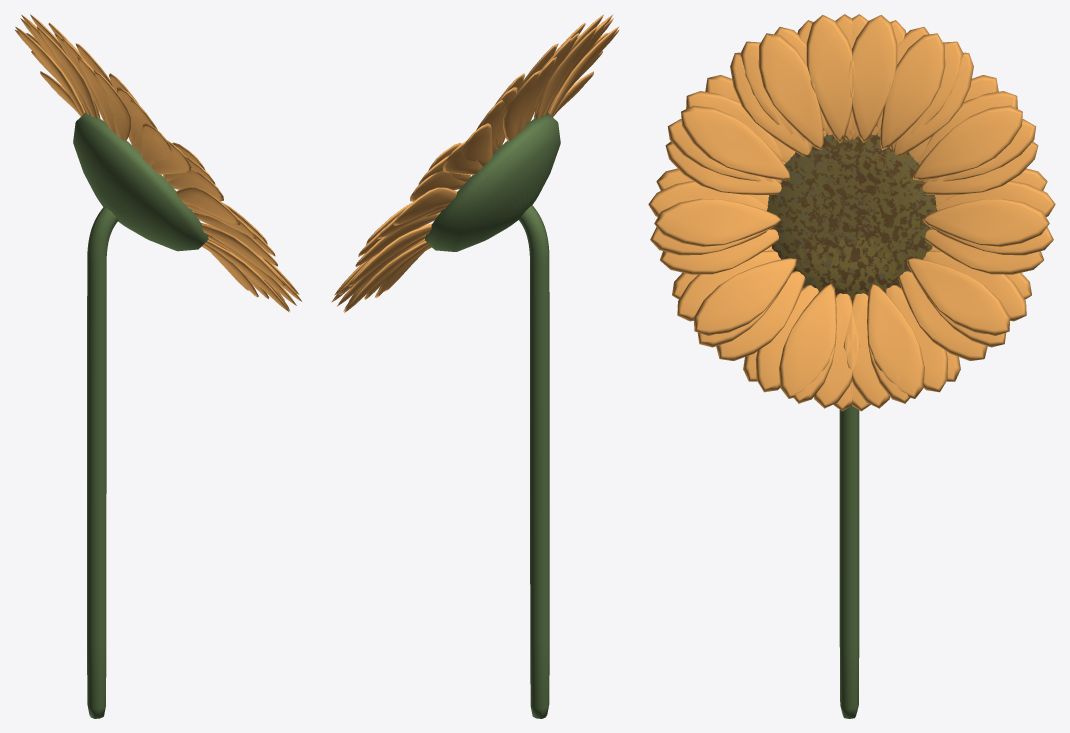
Rendered from girasol.fbx.
The picture shows the model from 3 angles, left to right: view 1: azimuth 30°, elevation 25°; view 2: azimuth 150°, elevation 25°; view 3: azimuth 270°, elevation 25°; orthographic projection.
Visible parts, largest first — view 1: Plane, NurbsPath, Cylinder; view 2: Plane, NurbsPath, Cylinder; view 3: Plane, Cylinder, NurbsPath.
Part boxes in pixels (x1,y1,x2,y2): Plane: (15, 14, 301, 312); NurbsPath: (87, 207, 118, 718); Cylinder: (73, 112, 208, 251); Plane: (331, 14, 619, 312); NurbsPath: (518, 205, 549, 718); Cylinder: (425, 112, 560, 251); Plane: (648, 14, 1055, 411); Cylinder: (767, 134, 937, 300); NurbsPath: (839, 406, 859, 718).
Size of the model in its own units: 177 by 593 by 319.
